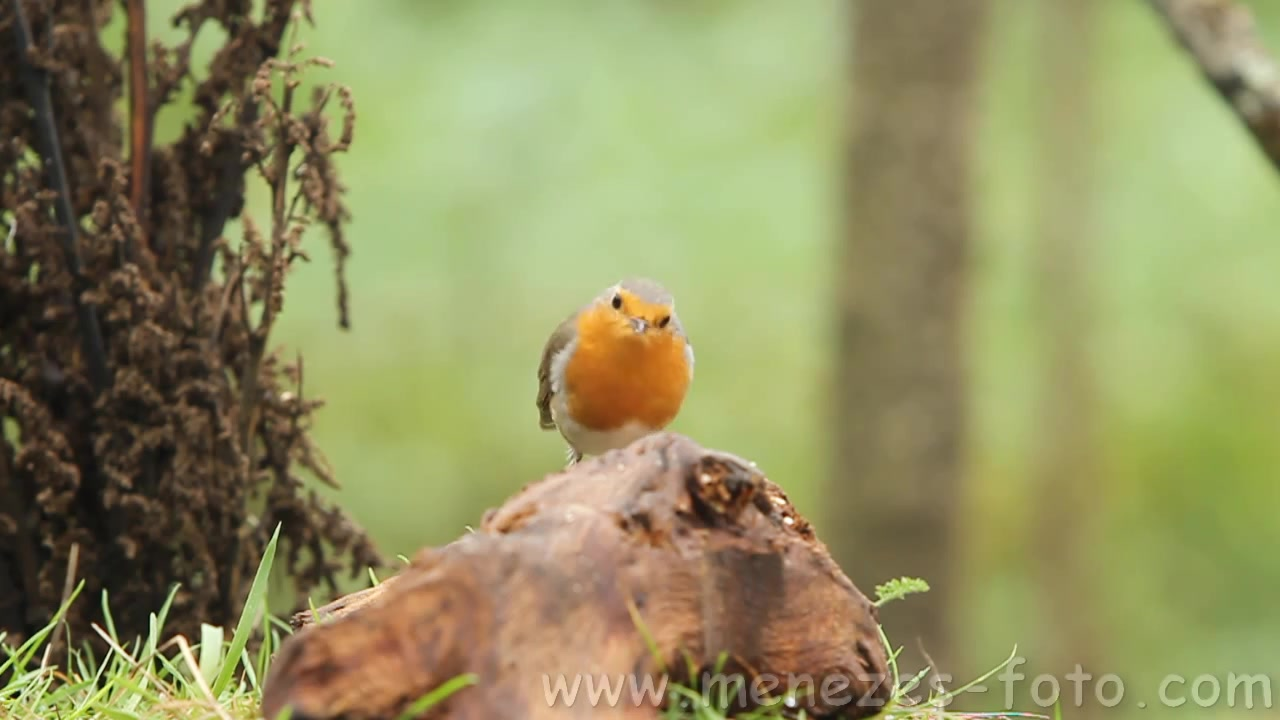bird: (538, 278, 697, 470)
